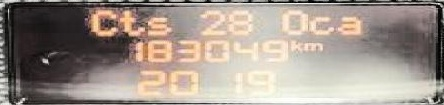0: (167, 69, 198, 94), (202, 39, 229, 61)
1: (231, 70, 242, 93), (131, 40, 142, 61)
2: (133, 69, 164, 94), (198, 9, 227, 34)
3: (173, 39, 198, 61)
4: (231, 40, 258, 60)
8: (224, 9, 251, 34), (142, 39, 171, 61)
9: (242, 69, 275, 94), (260, 39, 286, 61)
X: (89, 9, 118, 35), (278, 9, 307, 33), (118, 9, 142, 34), (307, 15, 333, 34), (335, 15, 360, 34), (144, 15, 169, 34), (300, 41, 320, 50), (287, 39, 302, 51)
